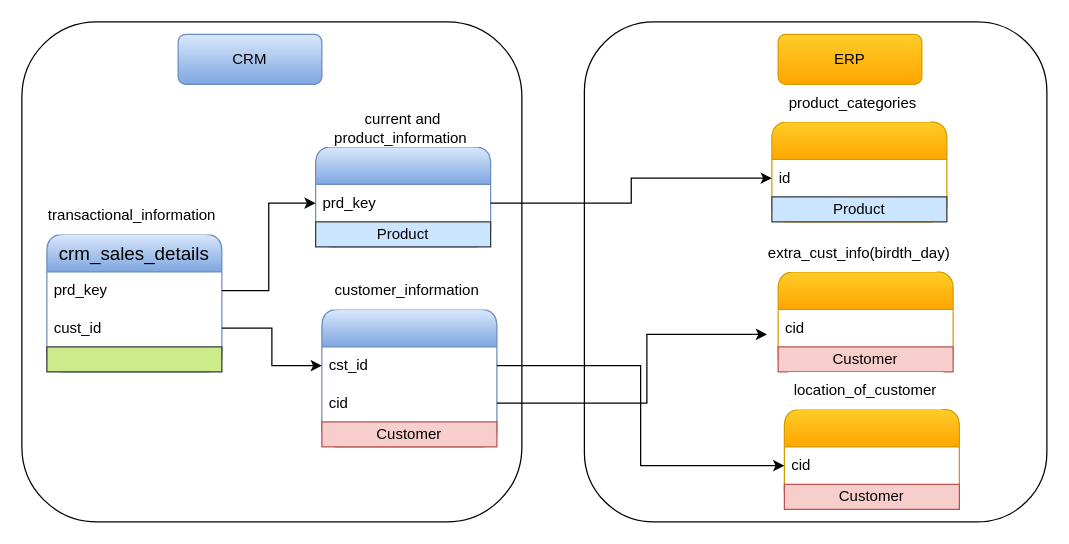
The diagram is 1069 pixels wide and 544 high, and some of its shapes have lost their labels. Each missing label, with the box of its shape:
crm_cust_info: (321, 308, 497, 447)
crm_prd_info: (314, 146, 491, 247)
erp_cust_as12: (777, 271, 953, 372)
erp_loc_a101: (783, 408, 959, 509)
erp_px_cat_g1v2: (771, 121, 947, 222)
Sales: (46, 346, 222, 372)
